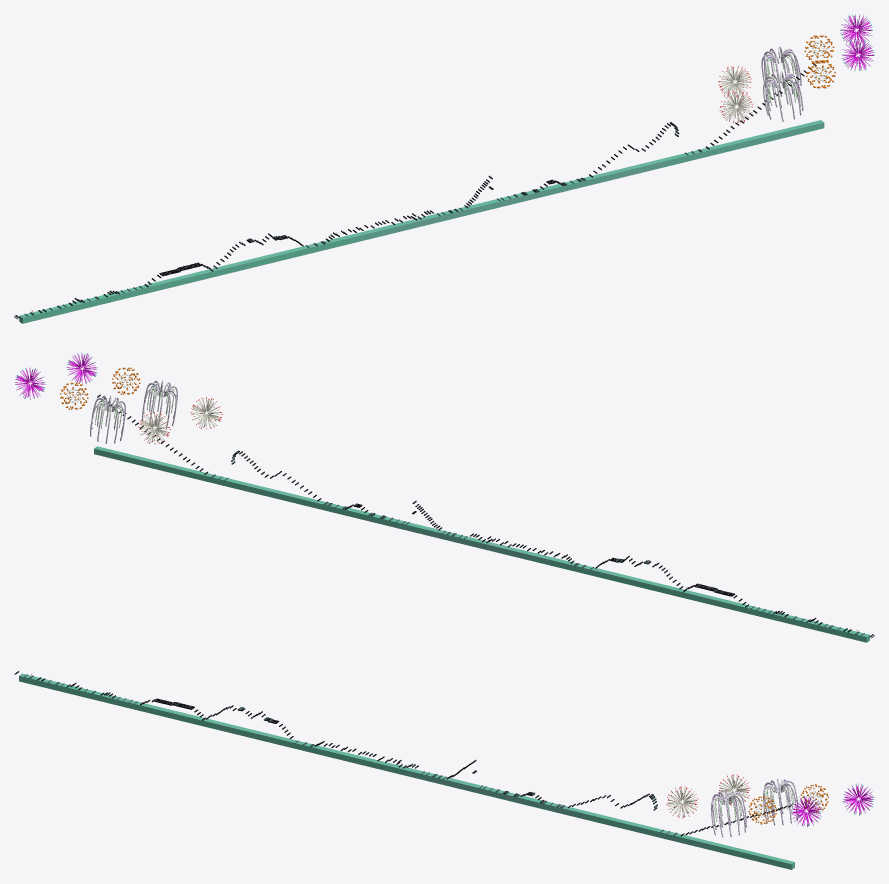
Rendered from level.dae.
The picture shows the model from 3 angles, top to bottom: view 1: azimuth 30°, elevation 25°; view 2: azimuth 150°, elevation 25°; view 3: azimuth 330°, elevation 25°; orthographic projection. The views are drawn at different scales.
Visible parts, largest first — view 1: SketchUp; view 2: SketchUp; view 3: SketchUp.
Boxes of the visible parts, <box> form: SketchUp: <box>19,120,824,323</box>; SketchUp: <box>94,446,869,642</box>; SketchUp: <box>19,673,794,869</box>.
Size of the model in its own units: 2283190 by 220219 by 222587.
